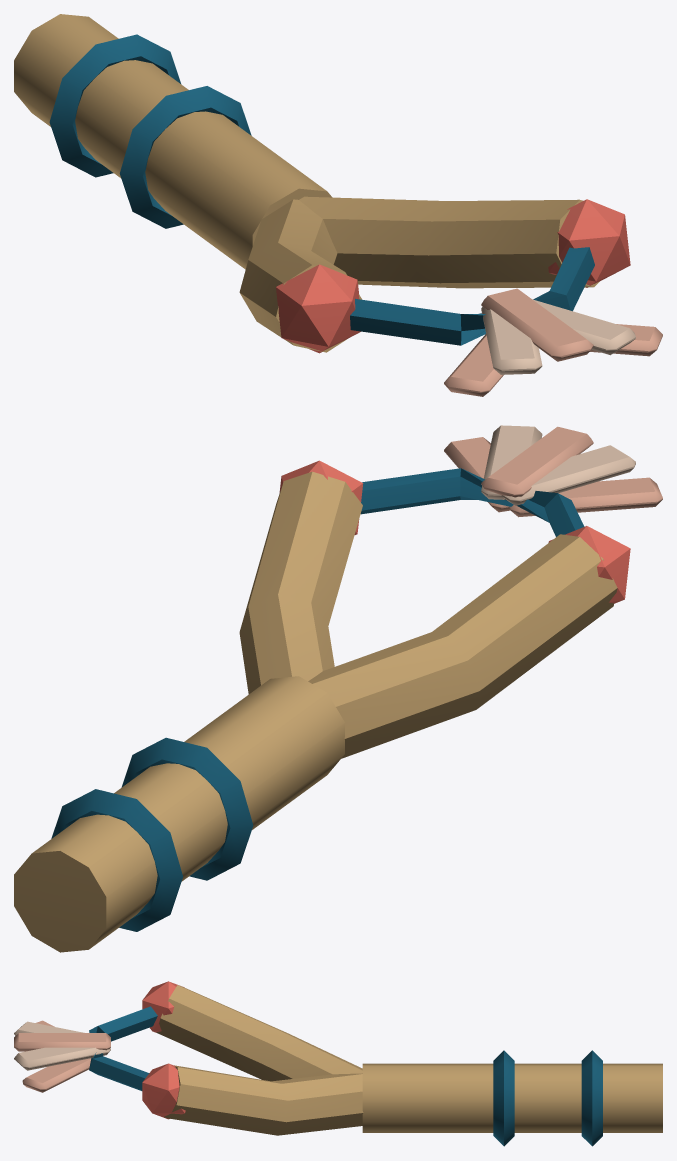
File: w_n_shell.glb
3 views of the same model, one above another, from view 1: azimuth 30°, elevation 25°; view 2: azimuth 150°, elevation 25°; view 3: azimuth 270°, elevation 25° (orthographic). The views are drawn at different scales.
Parts seen in each view (by area): view 1: body; view 2: body; view 3: body.
Boxes of the visible parts, bbox=[...] form: body: bbox=[14, 14, 662, 396]; body: bbox=[14, 425, 662, 952]; body: bbox=[14, 981, 662, 1146].
Bounding box in the file's own units: 0.1554 × 0.081 × 0.4043.
